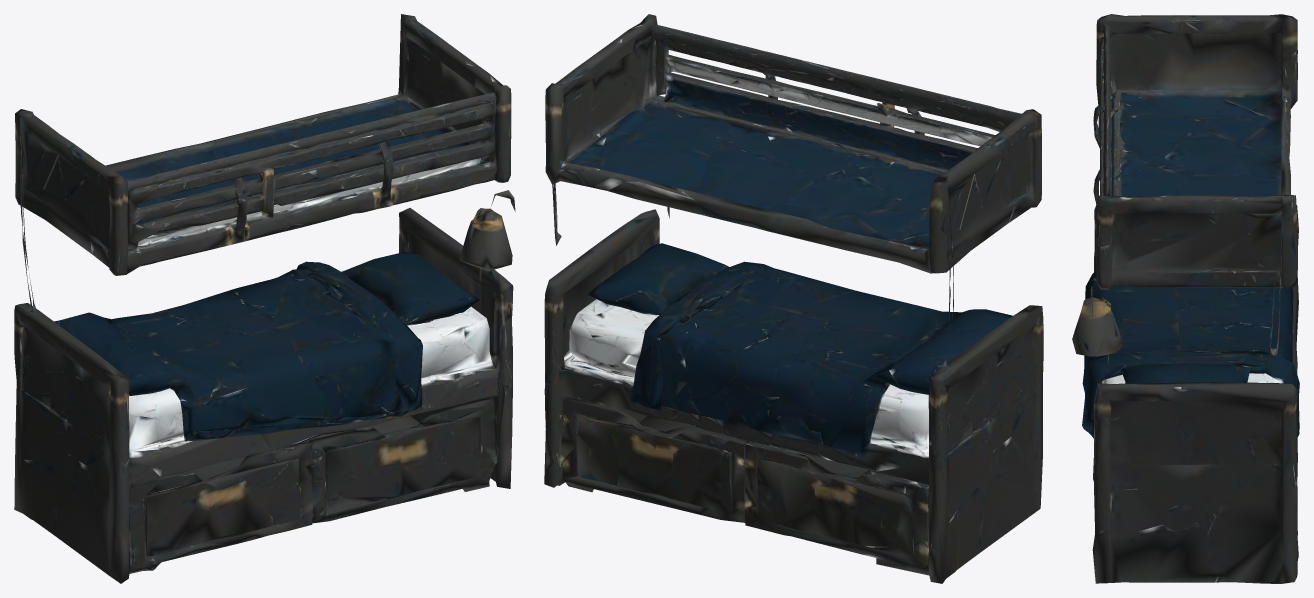
File: captain_bunk.glb
3 renders of one model, left to right at view 1: azimuth 30°, elevation 25°; view 2: azimuth 150°, elevation 25°; view 3: azimuth 270°, elevation 25°, orthographic. The views are drawn at different scales.
Size of the model in its own units: 1.9 by 1.82 by 0.9729.
1 material, 1 textured.
